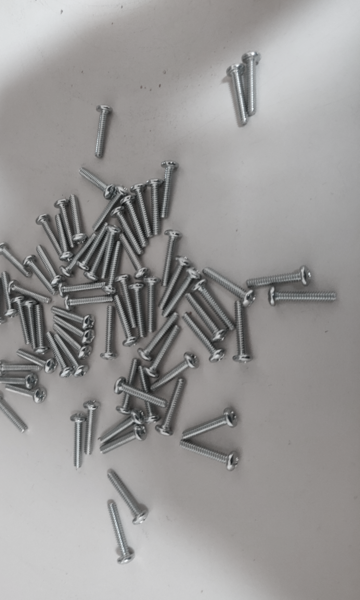longscrew: (107, 471, 152, 523), (150, 355, 198, 398), (186, 293, 229, 341), (144, 327, 186, 376), (203, 262, 254, 302), (134, 314, 177, 361), (183, 315, 225, 363), (195, 279, 237, 327), (160, 269, 199, 319), (176, 442, 242, 471), (155, 378, 188, 435), (106, 502, 136, 562), (181, 414, 238, 445), (157, 256, 189, 310), (113, 378, 168, 408), (84, 226, 111, 282), (113, 205, 143, 255), (119, 196, 149, 246), (248, 267, 318, 288), (233, 302, 257, 363), (101, 426, 146, 458), (97, 412, 142, 444), (243, 51, 266, 112), (60, 233, 94, 274), (269, 288, 338, 308), (79, 224, 109, 270), (97, 184, 127, 230), (229, 64, 251, 125), (56, 333, 87, 376), (156, 162, 180, 217), (116, 359, 139, 416), (55, 322, 91, 358), (138, 363, 158, 425), (114, 289, 135, 347), (53, 315, 95, 343), (120, 235, 148, 277), (47, 332, 72, 378), (79, 167, 116, 198), (0, 394, 27, 436), (117, 272, 136, 330), (160, 230, 180, 285), (64, 289, 116, 310), (38, 217, 64, 259), (143, 177, 162, 234), (0, 242, 29, 279), (24, 257, 53, 294), (57, 278, 109, 298), (67, 191, 87, 243), (55, 198, 75, 249), (6, 281, 52, 303), (16, 348, 56, 373), (100, 224, 118, 279), (106, 241, 124, 295), (131, 184, 150, 234), (102, 305, 118, 362), (95, 106, 111, 163), (71, 413, 87, 469), (85, 399, 101, 455), (37, 243, 59, 283), (52, 306, 97, 325), (53, 211, 70, 259), (144, 278, 158, 332), (133, 284, 147, 338), (2, 269, 17, 319), (12, 296, 27, 346), (25, 299, 40, 349), (34, 305, 49, 355), (5, 386, 50, 401), (0, 362, 41, 377), (0, 374, 36, 390), (0, 275, 6, 325)
